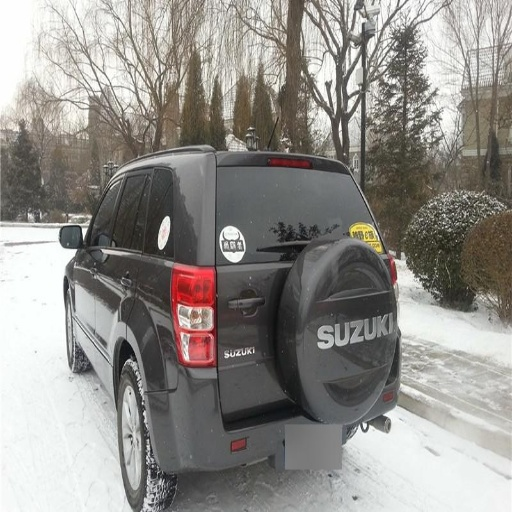tailgate: (275, 317, 384, 393)
trunk: (102, 169, 387, 423)
